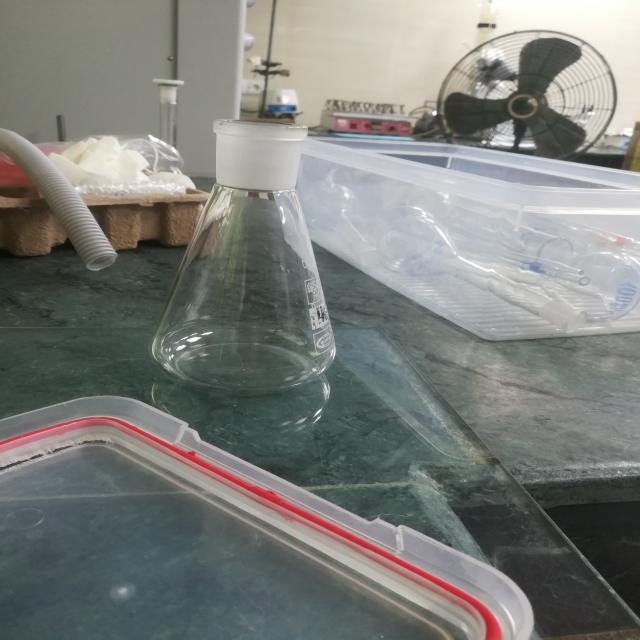Conical_Flask: (114, 65, 378, 418)
